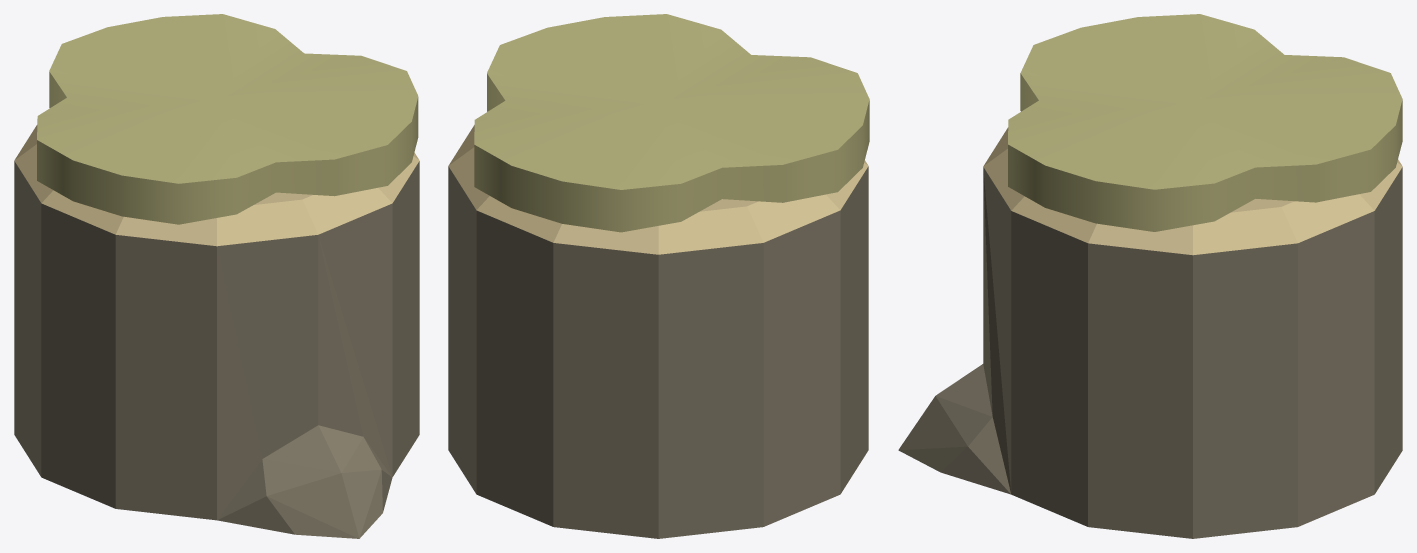
File: NewChair.fbx
3 renders of one model, left to right at view 1: azimuth 30°, elevation 25°; view 2: azimuth 150°, elevation 25°; view 3: azimuth 270°, elevation 25°, orthographic. The views are drawn at different scales.
Visible parts, largest first — view 1: ChairBase, ChairPad1; view 2: ChairBase, ChairPad1; view 3: ChairBase, ChairPad1.
Part boxes in pixels (box(x1,y1,x2,y2)): ChairBase: box(14, 125, 419, 538); ChairPad1: box(37, 14, 418, 224); ChairBase: box(448, 125, 868, 538); ChairPad1: box(474, 14, 869, 232); ChairBase: box(898, 127, 1402, 538); ChairPad1: box(1008, 14, 1402, 231).
Bounding box in the file's own units: 2.01 × 1.83 × 2.41.
